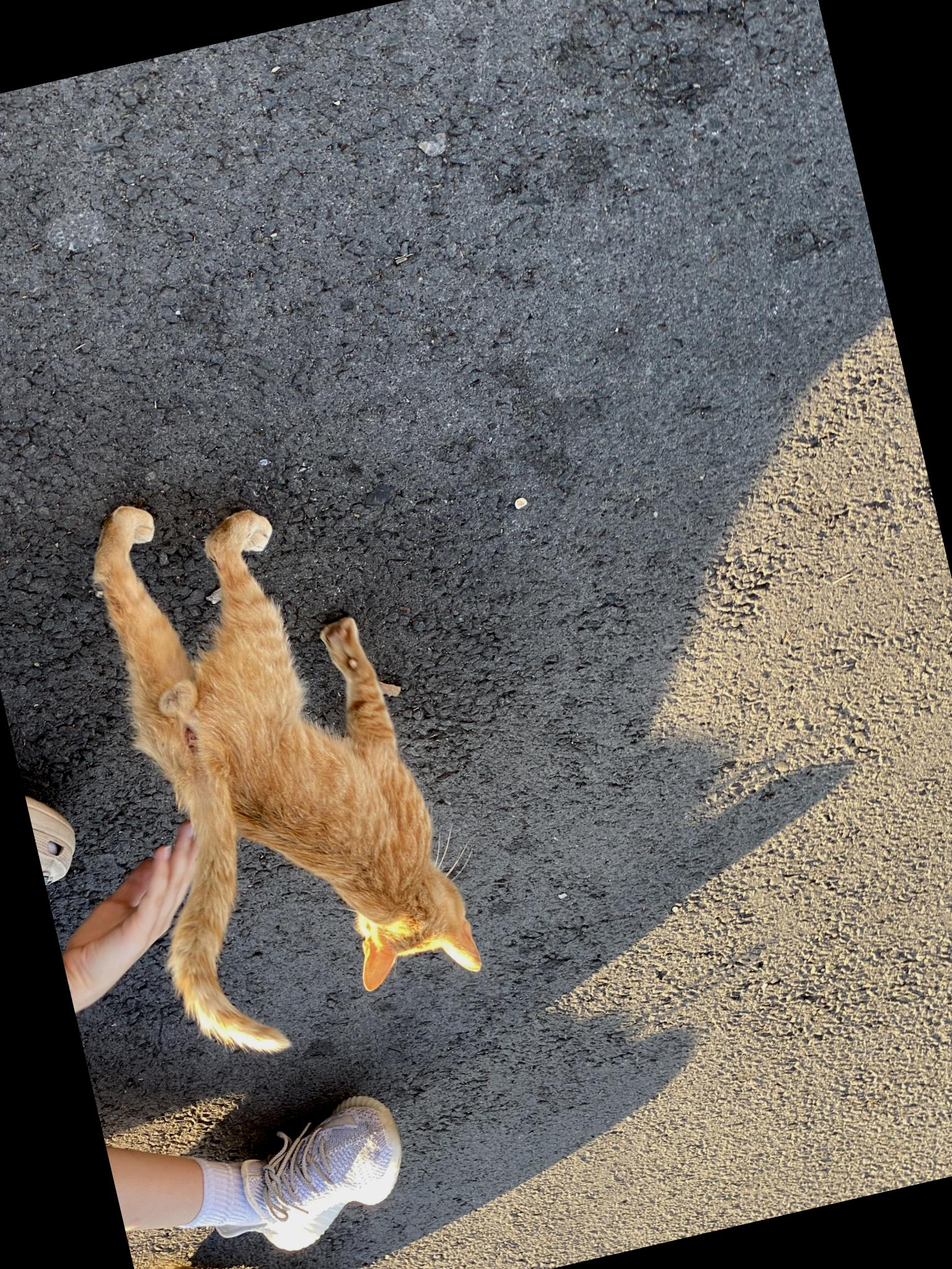macka: (66, 445, 491, 1071)
